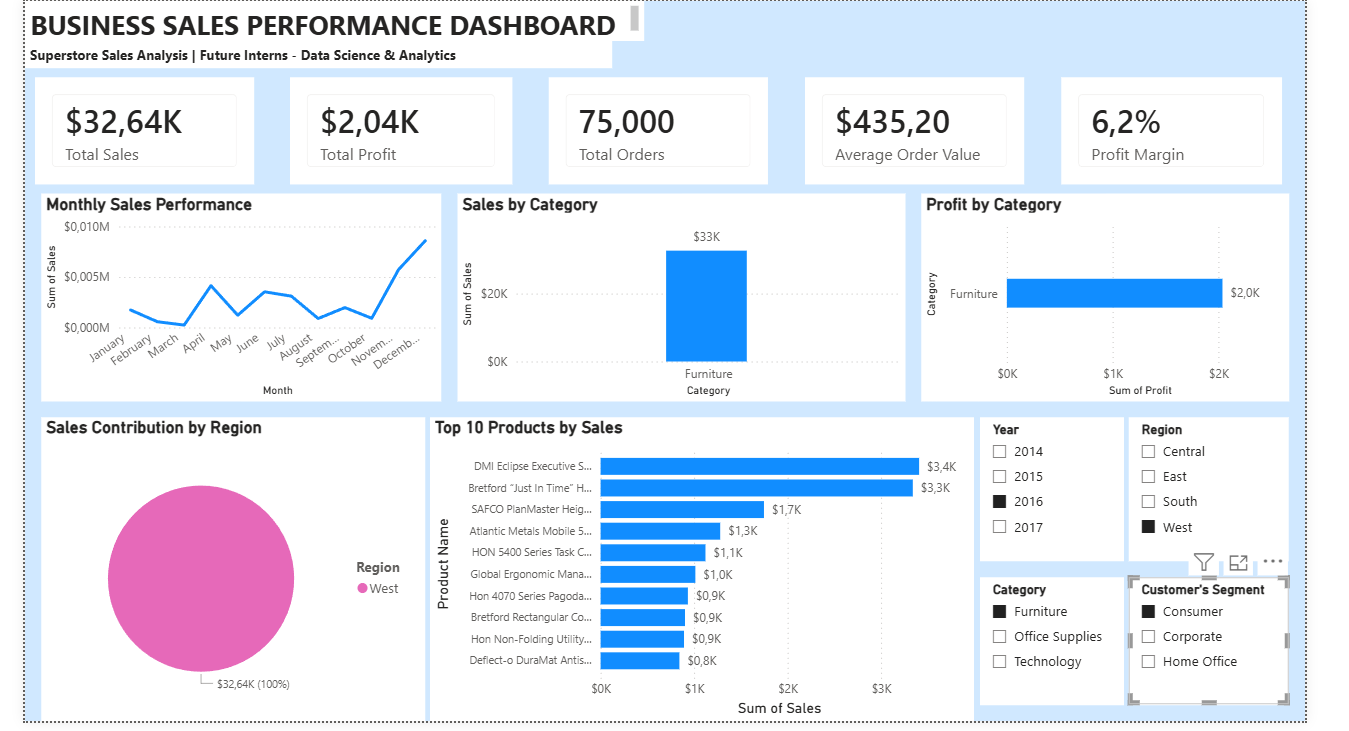

The page's visual inventory and layout, read from the dashboard file:
{"tool":"powerbi","page":{"name":"Sales Performance Dashboard","canvas":[1280,720],"ordinal":0},"visuals":[{"type":"textbox","box":[0,0,618.9,39.8],"z":0},{"type":"textbox","box":[0,39.8,587.3,27.4],"z":1000},{"type":"lineChart","title":"Monthly Sales Performance","fields":{"Y":["Sum(Sample - Superstore.Sales)"],"Category":["Sample - Superstore.Order Date.Variation.Date Hierarchy.Month"]},"box":[16,192,400,208],"z":2000},{"type":"clusteredColumnChart","title":" Sales by Category","fields":{"Category":["Sample - Superstore.Category"],"Y":["Sum(Sample - Superstore.Sales)"]},"box":[432,192,448,208],"z":3000},{"type":"pieChart","title":" Sales Contribution by Region","fields":{"Category":["Sample - Superstore.Region"],"Y":["Sum(Sample - Superstore.Sales)"]},"box":[16,416,384,304],"z":4000},{"type":"clusteredBarChart","title":"Top 10 Products by Sales","fields":{"Category":["Sample - Superstore.Product Name"],"Y":["Sum(Sample - Superstore.Sales)"]},"box":[405.3,416,544,304],"z":5000},{"type":"slicer","fields":{"Values":["Sample - Superstore.Order Date.Variation.Date Hierarchy.Year"]},"box":[954.7,416,144,144],"z":6000},{"type":"slicer","fields":{"Values":["Sample - Superstore.Region"]},"box":[1104,416,160,144],"z":7000},{"type":"slicer","fields":{"Values":["Sample - Superstore.Category"]},"box":[954.7,576,144,128],"z":8000},{"type":"slicer","fields":{"Values":["Sample - Superstore.Segment"]},"box":[1104,576,160,128],"z":9000},{"type":"cardVisual","title":"Sum Of Sales","fields":{"Data":["Sample - Superstore.Total Sales"]},"box":[9.6,76.8,219.6,107],"z":10000},{"type":"cardVisual","title":"Sum Of Profit","fields":{"Data":["Sample - Superstore.Total Profit"]},"box":[265.5,76.8,222.3,107],"z":11000},{"type":"cardVisual","title":"Total Orders","fields":{"Data":["Sample - Superstore.Total Orders"]},"box":[524.2,76.8,219.6,107],"z":12000},{"type":"cardVisual","title":"Average Order Value","fields":{"Data":["Sample - Superstore.Average Order Value"]},"box":[780.1,76.8,219.6,107],"z":13000},{"type":"cardVisual","title":"Profit Margin","fields":{"Data":["Sample - Superstore.Profit Margin"]},"box":[1036,76.8,220.9,107],"z":14000},{"type":"clusteredBarChart","title":" Profit by Category","fields":{"Category":["Sample - Superstore.Category"],"Y":["Sum(Sample - Superstore.Profit)"]},"box":[896,192,368,208],"z":15000}]}

Visuals, with their boxes on the page's 1280x720 design canvas (x1, y1, x2, y2). These are canvas units, not pixel positions in the 1349x731 screenshot, which may show the page scaled, cropped or inside an application window:
textbox: <bbox>0, 0, 619, 40</bbox>
textbox: <bbox>0, 40, 587, 67</bbox>
"Monthly Sales Performance" lineChart: <bbox>16, 192, 416, 400</bbox>
" Sales by Category" clusteredColumnChart: <bbox>432, 192, 880, 400</bbox>
" Sales Contribution by Region" pieChart: <bbox>16, 416, 400, 720</bbox>
"Top 10 Products by Sales" clusteredBarChart: <bbox>405, 416, 949, 720</bbox>
slicer - Sample - Superstore.Order Date.Variation.Date Hierarchy.Year: <bbox>955, 416, 1099, 560</bbox>
slicer - Sample - Superstore.Region: <bbox>1104, 416, 1264, 560</bbox>
slicer - Sample - Superstore.Category: <bbox>955, 576, 1099, 704</bbox>
slicer - Sample - Superstore.Segment: <bbox>1104, 576, 1264, 704</bbox>
"Sum Of Sales" cardVisual: <bbox>10, 77, 229, 184</bbox>
"Sum Of Profit" cardVisual: <bbox>266, 77, 488, 184</bbox>
"Total Orders" cardVisual: <bbox>524, 77, 744, 184</bbox>
"Average Order Value" cardVisual: <bbox>780, 77, 1000, 184</bbox>
"Profit Margin" cardVisual: <bbox>1036, 77, 1257, 184</bbox>
" Profit by Category" clusteredBarChart: <bbox>896, 192, 1264, 400</bbox>
